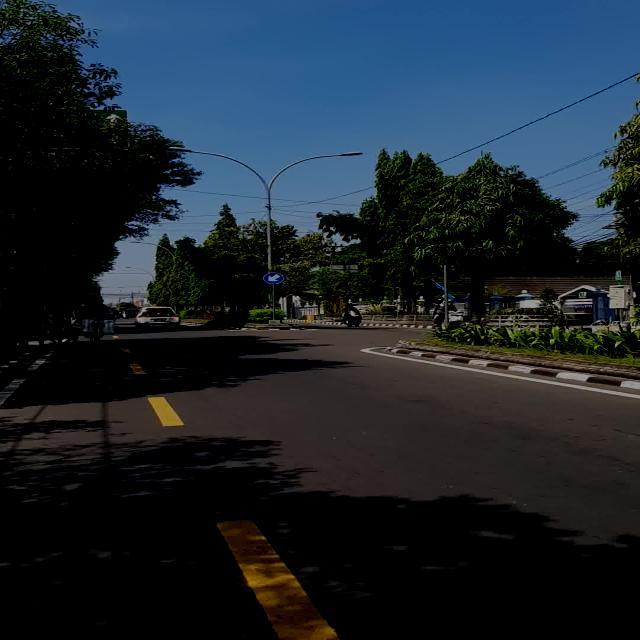Lajur Kiri: (262, 272, 284, 284)
